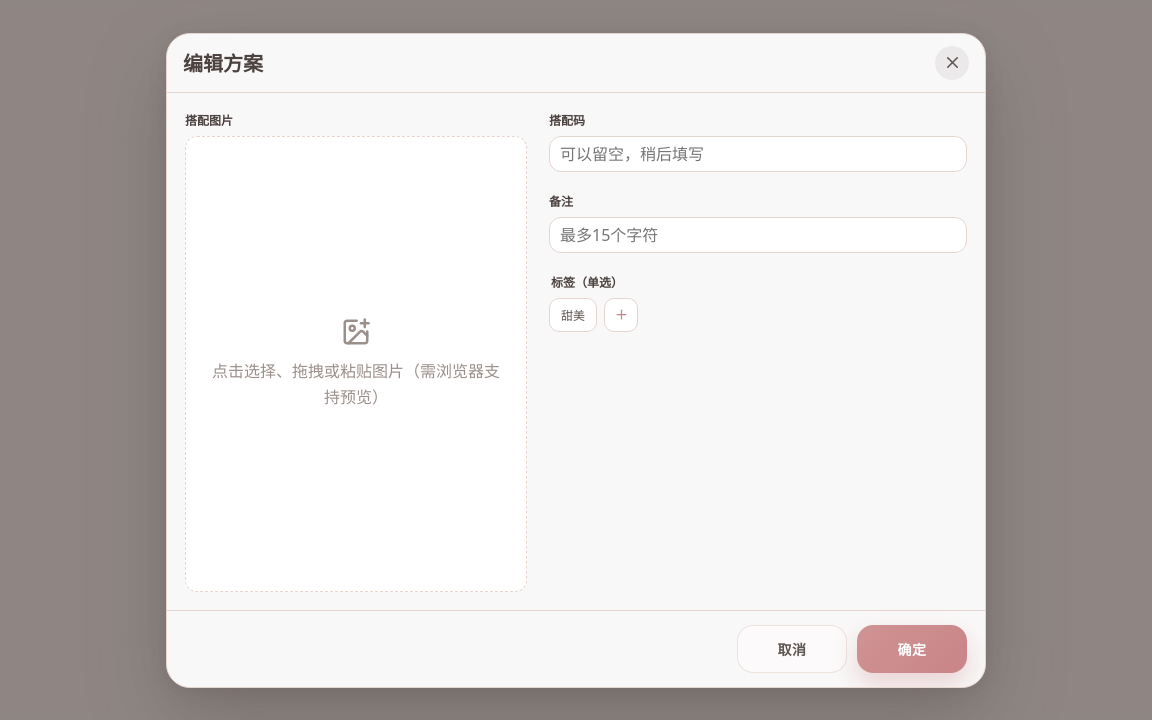
Scenario: outfit workspace components › keeps the editor open when the backdrop closes the tag popover
Step 1. Click the button with class "outfit-editor-add-tag" → (621, 314), box 604,298 -> 638,332
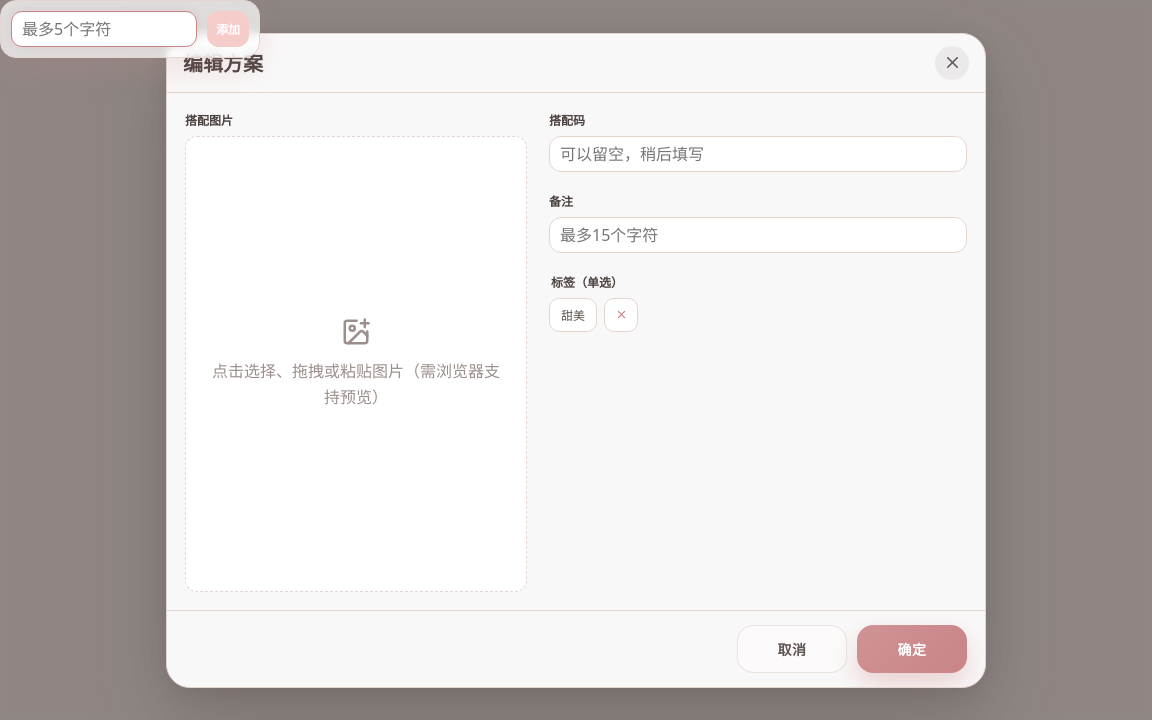
Step 2. Click the dialog with class "outfit-editor" → (576, 360), box 0,0 -> 1151,719
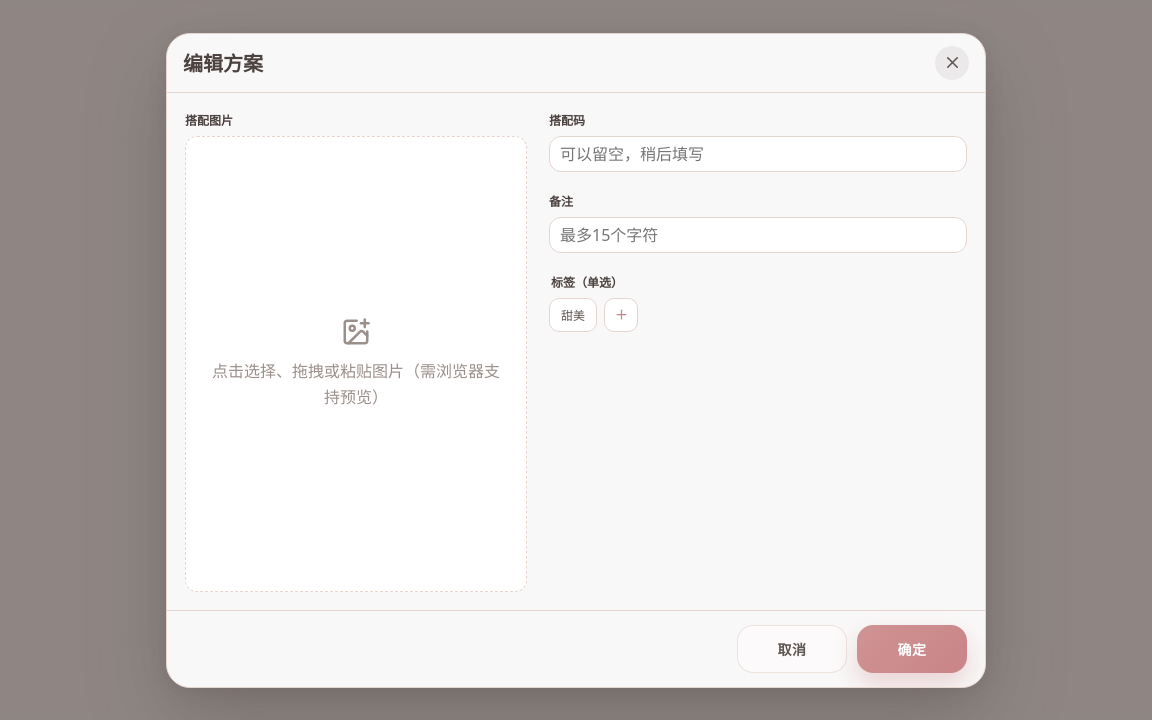
expect the form with class "outfit-tag-editor-popover" is gone: met
